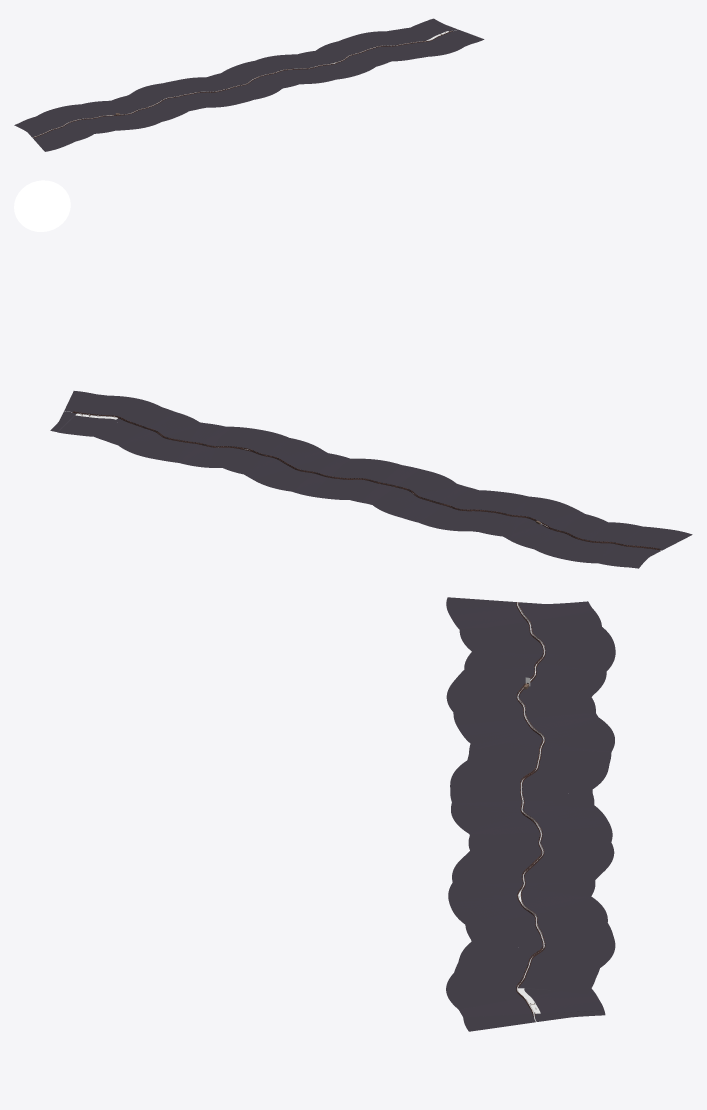
Rendered from strasbourg.glb.
3 views of the same model, one above another, from view 1: azimuth 30°, elevation 25°; view 2: azimuth 150°, elevation 25°; view 3: azimuth 270°, elevation 25° (orthographic). The views are drawn at different scales.
Parts seen in each view (by area): view 1: Land_009, Land_008, Land_001, Land_000, Land_007, Land_004, Land_002, Land_006, Land_005, Land_003, Land_010; view 2: Land_009, Land_008, Land_000, Land_001, Land_002, Land_007, Land_003, Land_004, Land_005, Land_006, Land_010, Sun; view 3: Land_009, Land_000, Land_008, Land_001, Land_007, Land_003, Land_005, Land_004, Land_002, Land_006, Land_010.
Part boxes in pixels (left/top/right/bottom): Land_009: left=376, top=27, right=443, bottom=61; Land_008: left=316, top=31, right=391, bottom=67; Land_001: left=37, top=101, right=113, bottom=133; Land_000: left=14, top=116, right=95, bottom=151; Land_007: left=295, top=50, right=375, bottom=83; Land_004: left=171, top=76, right=248, bottom=108; Land_002: left=104, top=96, right=172, bottom=130; Land_006: left=244, top=54, right=312, bottom=88; Land_005: left=209, top=63, right=282, bottom=101; Land_003: left=127, top=81, right=199, bottom=118; Land_010: left=411, top=18, right=484, bottom=54; Land_009: left=87, top=400, right=203, bottom=449; Land_008: left=125, top=422, right=231, bottom=467; Land_000: left=597, top=522, right=692, bottom=568; Land_001: left=509, top=514, right=610, bottom=563; Land_002: left=479, top=493, right=586, bottom=539; Land_007: left=220, top=426, right=316, bottom=475; Land_003: left=409, top=486, right=510, bottom=531; Land_004: left=368, top=466, right=464, bottom=519; Land_005: left=306, top=458, right=409, bottom=503; Land_006: left=244, top=446, right=350, bottom=495; Land_010: left=50, top=391, right=145, bottom=436; Sun: left=14, top=180, right=70, bottom=231; Land_009: left=446, top=937, right=607, bottom=994; Land_000: left=446, top=597, right=602, bottom=654; Land_008: left=465, top=896, right=615, bottom=961; Land_001: left=464, top=627, right=615, bottom=691; Land_007: left=448, top=861, right=595, bottom=924; Land_003: left=456, top=713, right=614, bottom=759; Land_005: left=451, top=793, right=612, bottom=834; Land_004: left=450, top=754, right=610, bottom=797; Land_002: left=446, top=668, right=596, bottom=723; Land_006: left=459, top=832, right=614, bottom=879; Land_010: left=446, top=984, right=605, bottom=1031.
Size of the model in its own units: 13335 by 1372 by 5301.
